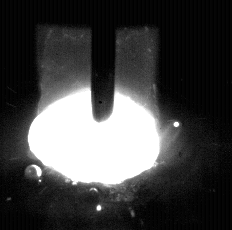arame: (92, 0, 115, 122)
poca: (27, 0, 161, 230)
